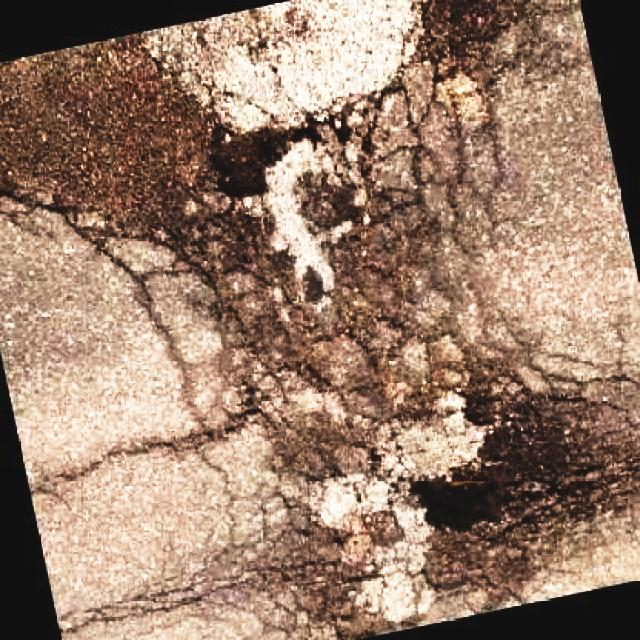pothole: (408, 383, 584, 539), (203, 103, 379, 202)
